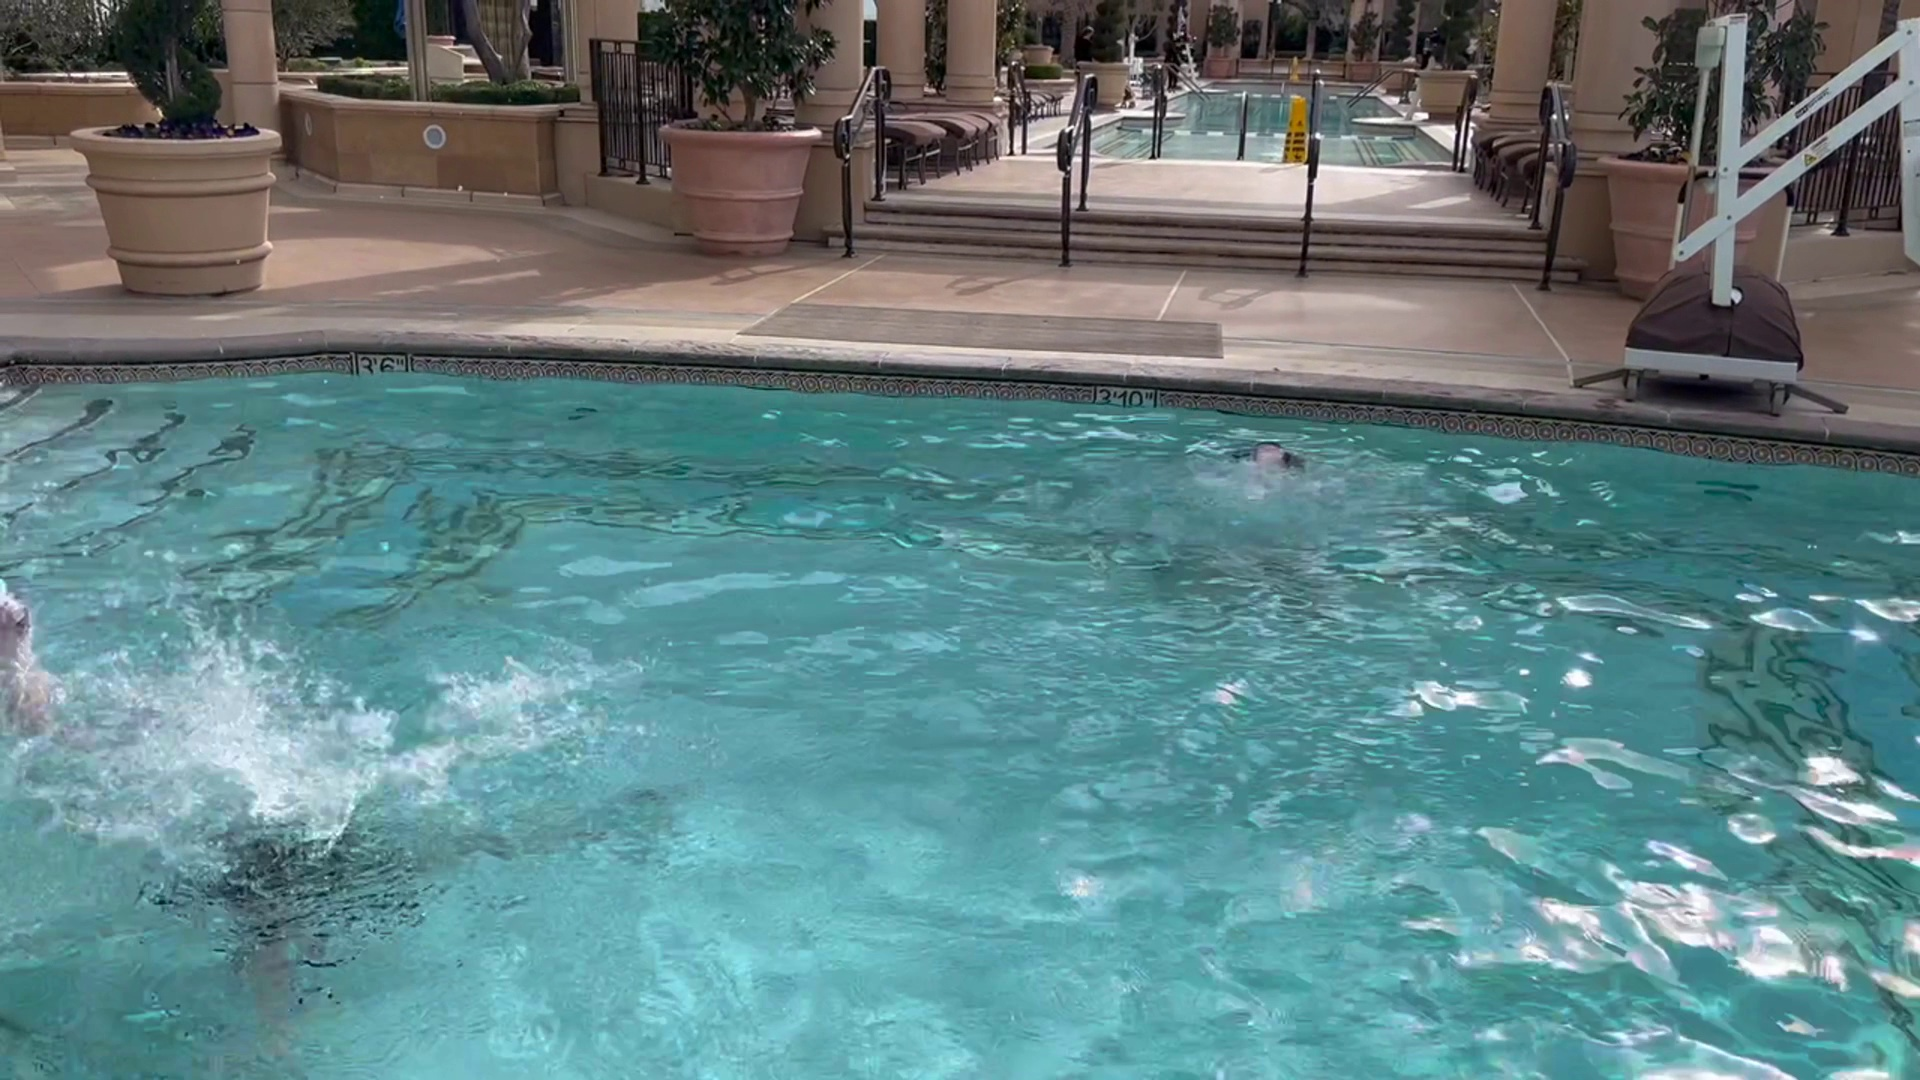danger: (1, 560, 653, 927)
